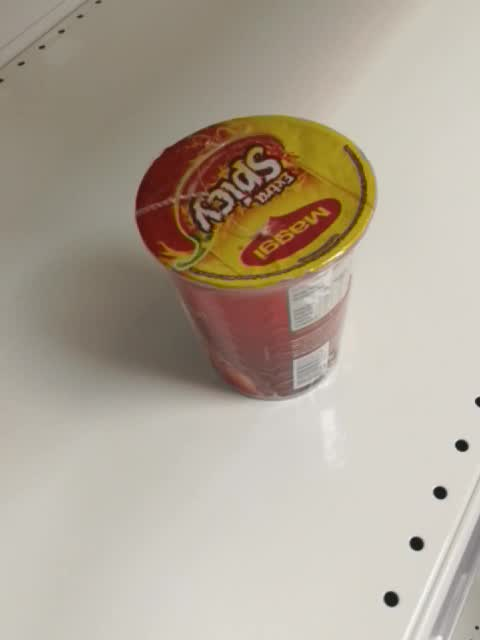maggi: (133, 112, 379, 402)
